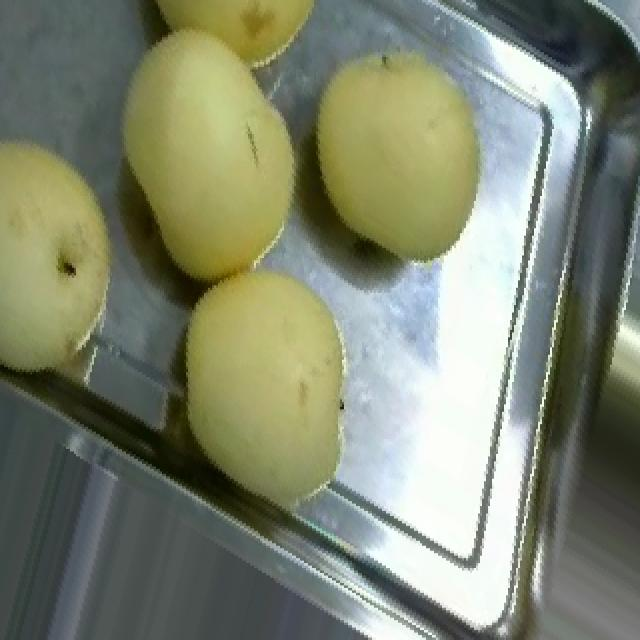Fruit: (96, 8, 320, 305), (144, 245, 372, 526), (290, 22, 508, 286), (0, 112, 142, 397)
